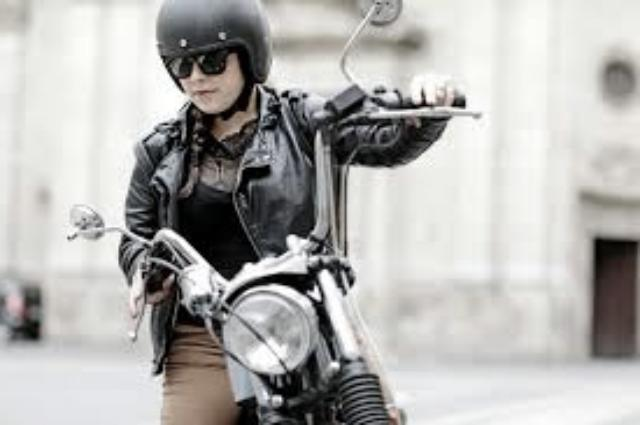helm: (151, 1, 278, 113)
motor: (61, 73, 484, 425)
